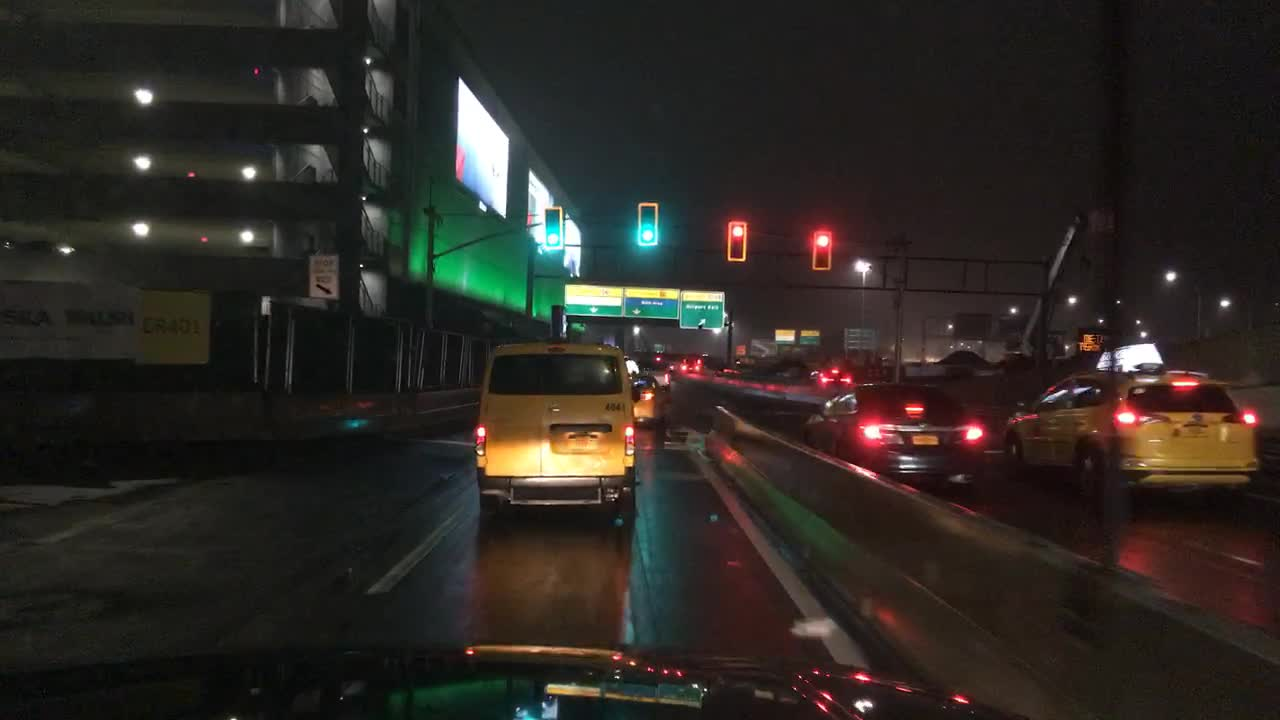car: (1003, 345, 1262, 495), (475, 341, 643, 522), (799, 384, 988, 499), (626, 357, 664, 422), (819, 365, 853, 386), (643, 361, 669, 386), (681, 350, 703, 371)
traffic light: (637, 202, 657, 248), (544, 207, 564, 253), (726, 218, 746, 261), (809, 229, 830, 269)
traffic sign: (562, 283, 626, 317), (679, 290, 724, 329), (625, 287, 679, 317), (309, 251, 338, 301), (953, 311, 992, 337), (1077, 328, 1106, 352), (998, 314, 1027, 337), (845, 326, 874, 349), (774, 330, 796, 344), (799, 328, 820, 342), (653, 341, 665, 352), (735, 342, 745, 353)
